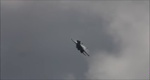maybay_muctieu: (72, 37, 89, 57)
